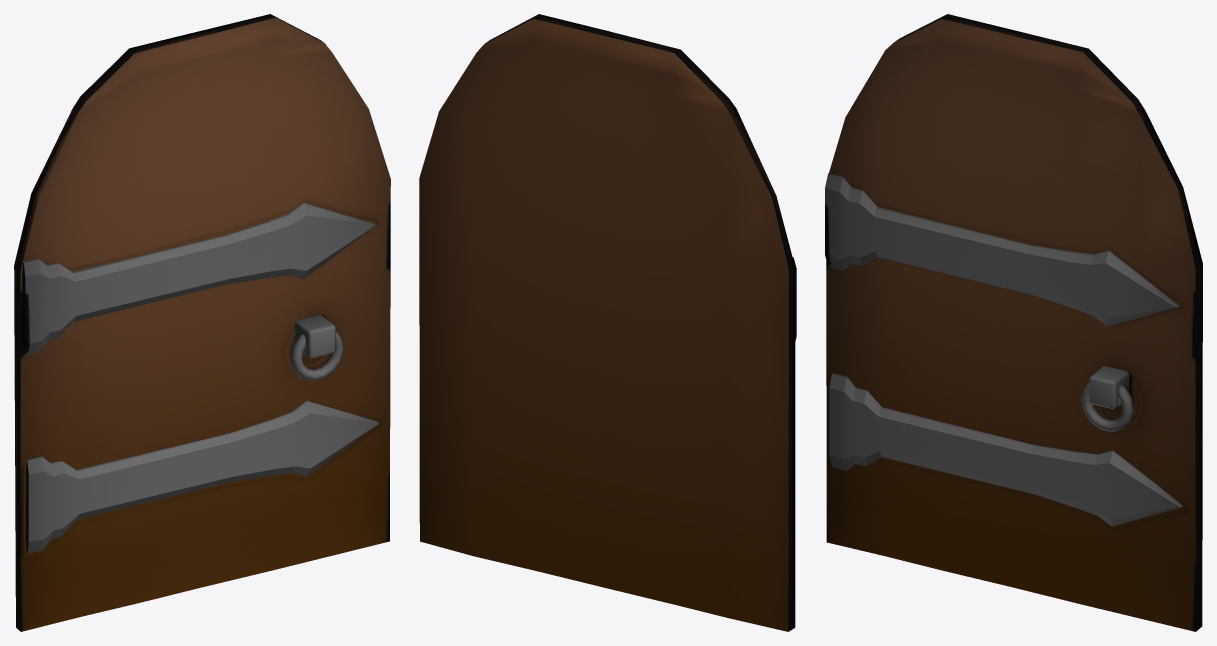
The model's file is DoorRoom1.fbx.
The picture shows the model from 3 angles, left to right: view 1: azimuth 30°, elevation 25°; view 2: azimuth 150°, elevation 25°; view 3: azimuth 330°, elevation 25°; orthographic projection.
Visible parts, largest first — view 1: Whole_Door; view 2: Whole_Door; view 3: Whole_Door.
Boxes of the visible parts, left/top/right/bottom form: Whole_Door: left=14, top=14, right=390, bottom=631; Whole_Door: left=419, top=14, right=796, bottom=631; Whole_Door: left=825, top=14, right=1202, bottom=631.
Size of the model in its own units: 51.31 by 73.24 by 5.12.
1 material, 1 textured.
